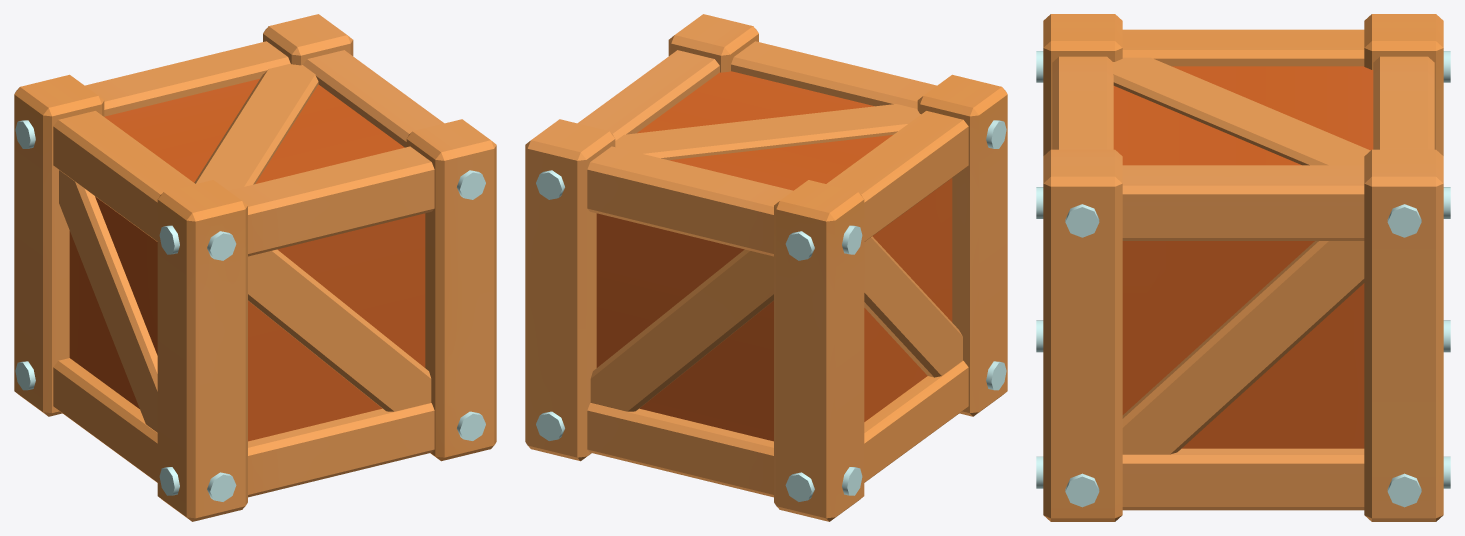
File: BoxIdle.FBX
The picture shows the model from 3 angles, left to right: view 1: azimuth 30°, elevation 25°; view 2: azimuth 150°, elevation 25°; view 3: azimuth 270°, elevation 25°; orthographic projection. The views are drawn at different scales.
Parts seen in each view (by area): view 1: Thung_go_vuong; view 2: Thung_go_vuong; view 3: Thung_go_vuong.
Boxes of the visible parts, <box> form: Thung_go_vuong: <box>14,14,496,521</box>; Thung_go_vuong: <box>525,14,1007,521</box>; Thung_go_vuong: <box>1036,14,1450,521</box>.
Size of the model in its own units: 1.12 by 1.03 by 1.12.
